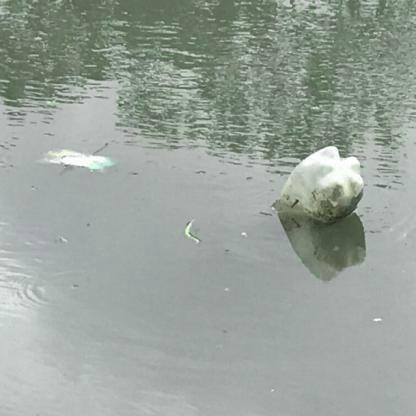Plastic: (271, 146, 365, 224)
Trash: (40, 146, 116, 176)
